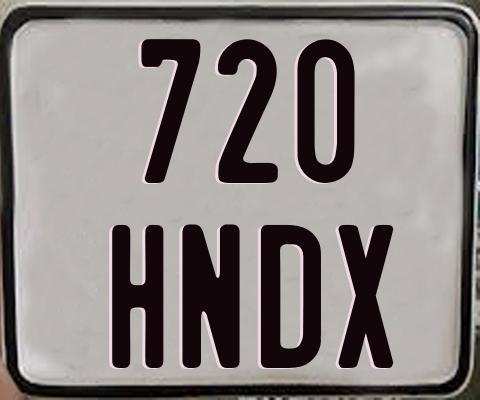0: (296, 38, 355, 186)
2: (218, 37, 282, 181)
7: (140, 37, 205, 182)
D: (260, 225, 324, 373)
H: (109, 224, 161, 373)
N: (179, 223, 239, 372)
X: (338, 224, 394, 370)
